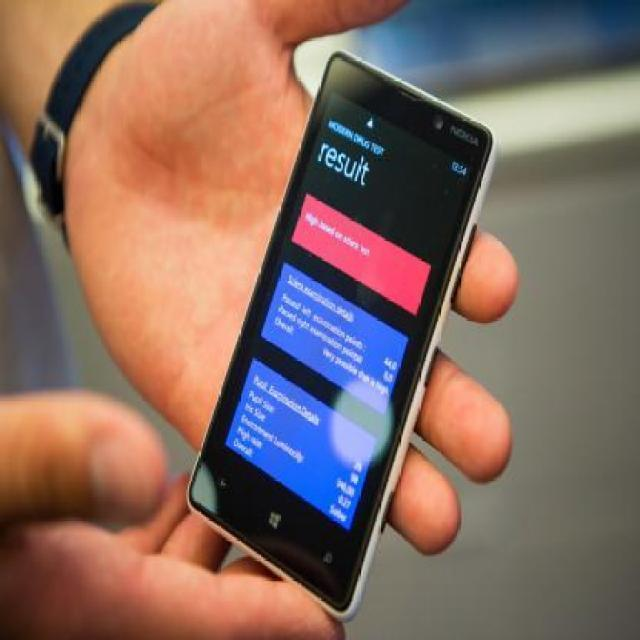phone: (186, 46, 500, 624)
